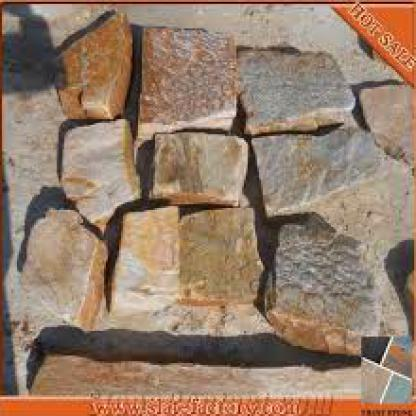Metamorphic_Quartize: (246, 119, 389, 212), (132, 19, 244, 128), (234, 40, 365, 125), (144, 129, 257, 204)
